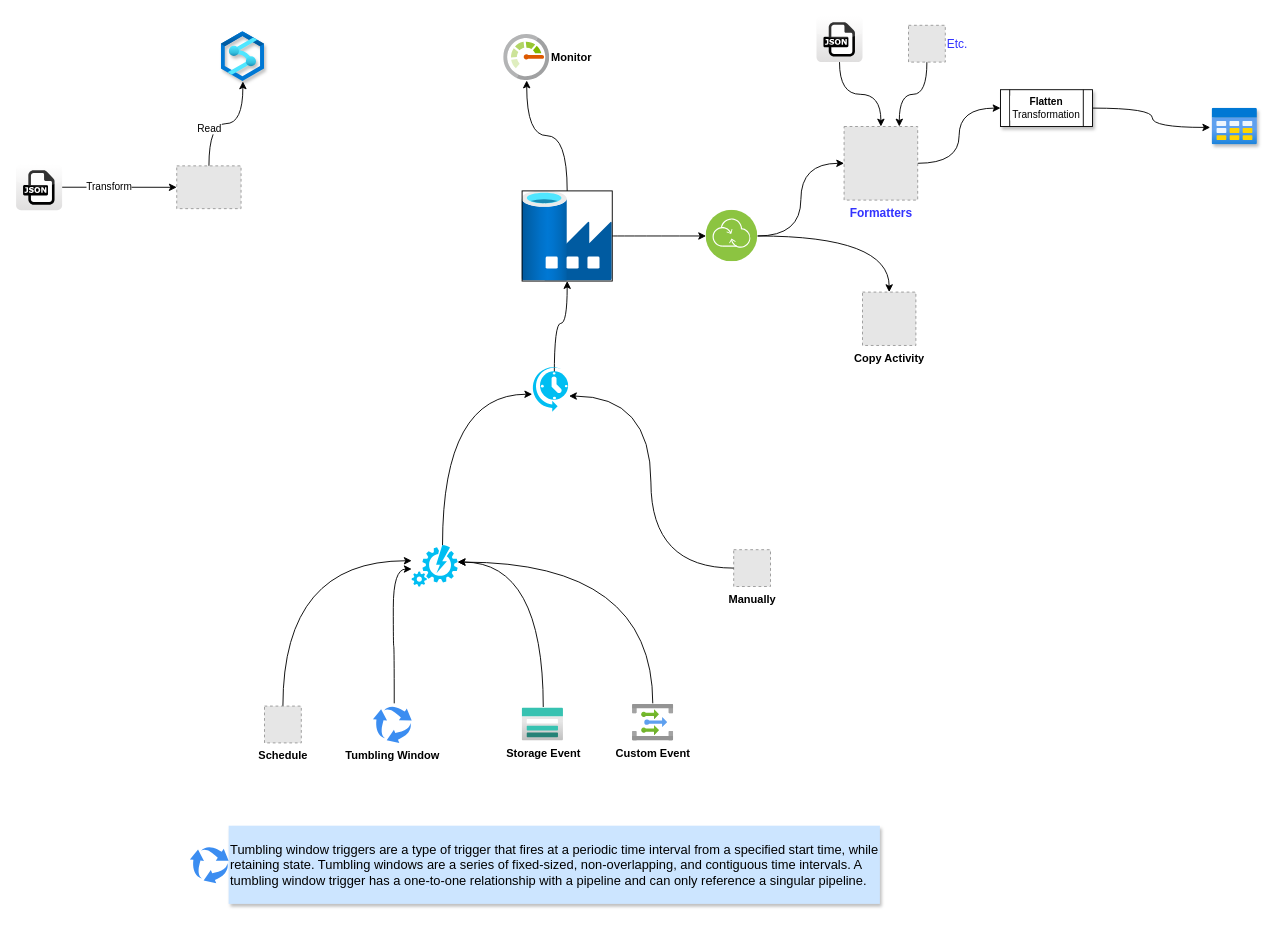
The diagram is 1286 pixels wide and 926 high, and some of its shapes have lost their labels. Grey dashed boxes stand in for pictures. The centre of each missing label's shape, as x and y in pixels:
Data Factory: the point at 567,235
Data Transformation (Mapping Data Flow): the point at 731,235
Logical Table: the point at 1235,127
Trigger: the point at 434,565
Triggers and Scheduling: the point at 549,388
